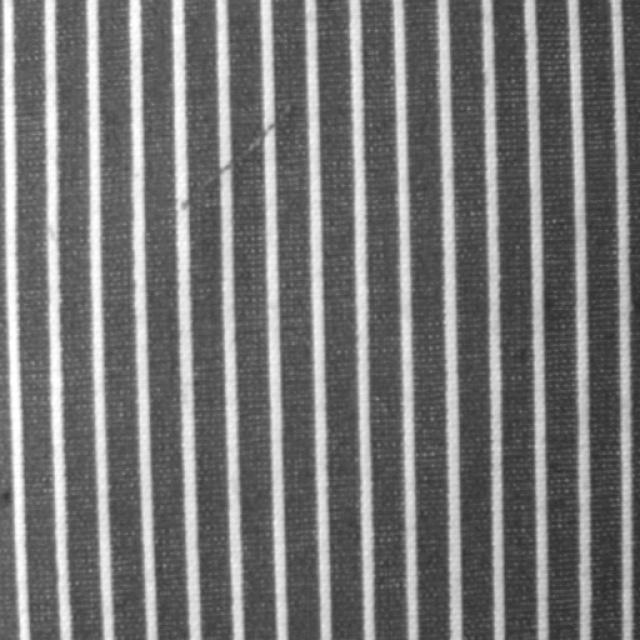Foreign-Body-Defect: (156, 96, 299, 224)
